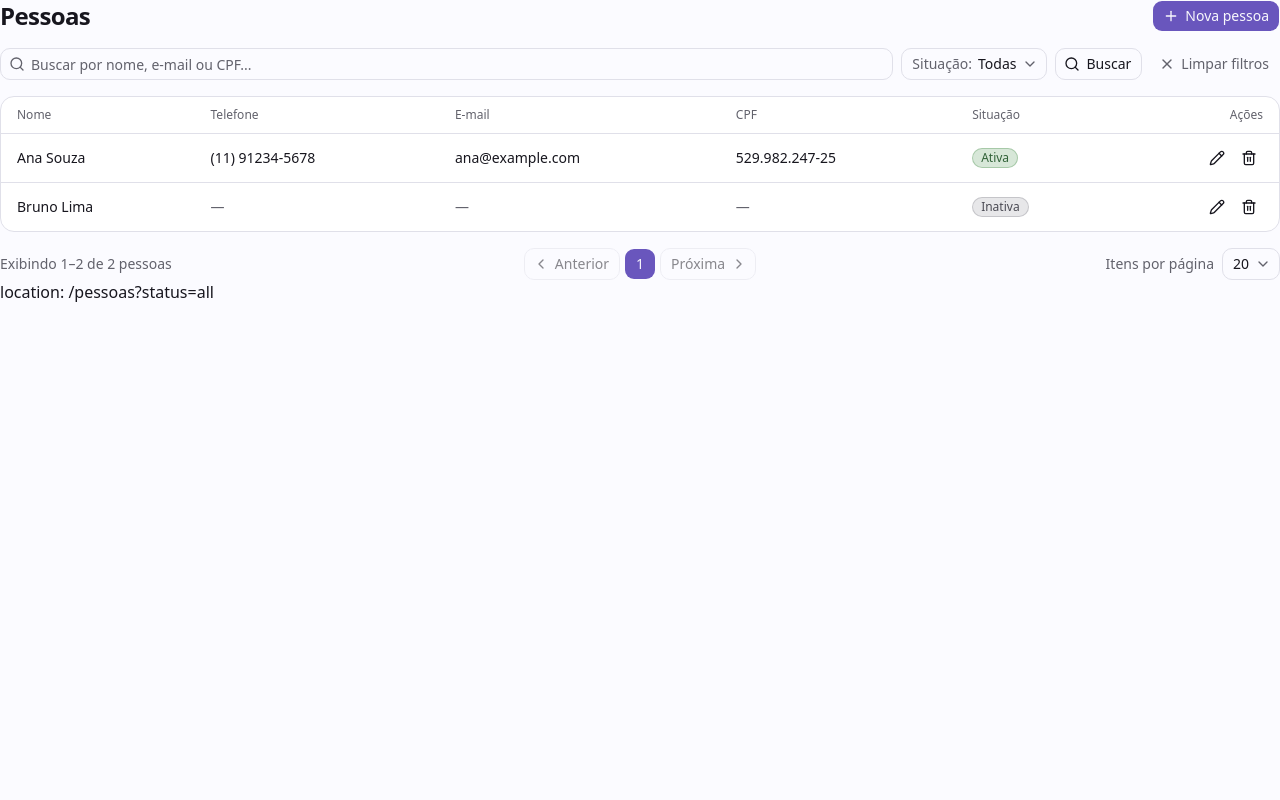
Scenario: ClientDeletePage › deletes the person, says so, reloads the list and goes back to it with its filters
The image size is (1280, 800).
expect the link "Ana Souza" is shown: met, box top-left (17, 148), bottom-right (85, 167)
Click the link named "Excluir Ana Souza": coordinates (1249, 158) top-left (1241, 150), bottom-right (1257, 166)
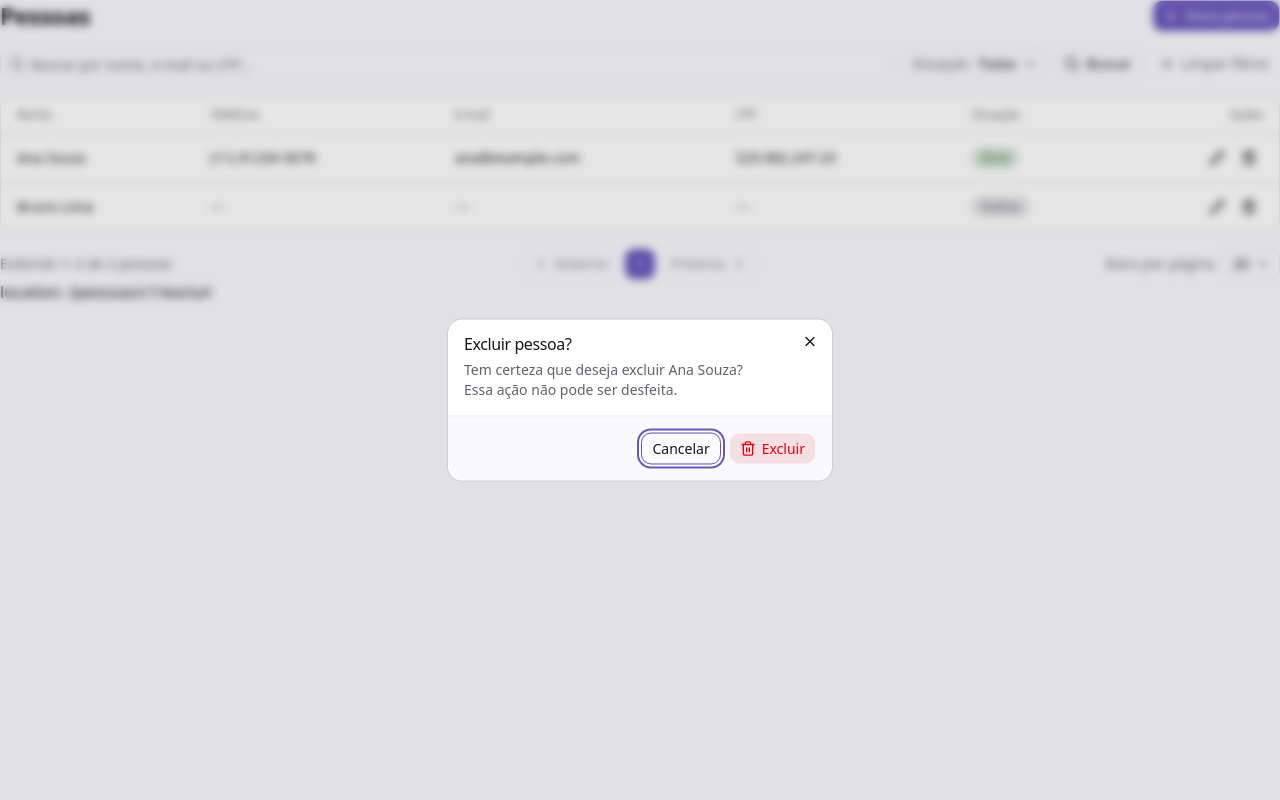
expect the text "Tem certeza que deseja excluir Ana Souza?" is shown: met, box top-left (464, 360), bottom-right (743, 378)
Click the button "Excluir": coordinates (772, 448) top-left (729, 432), bottom-right (816, 464)
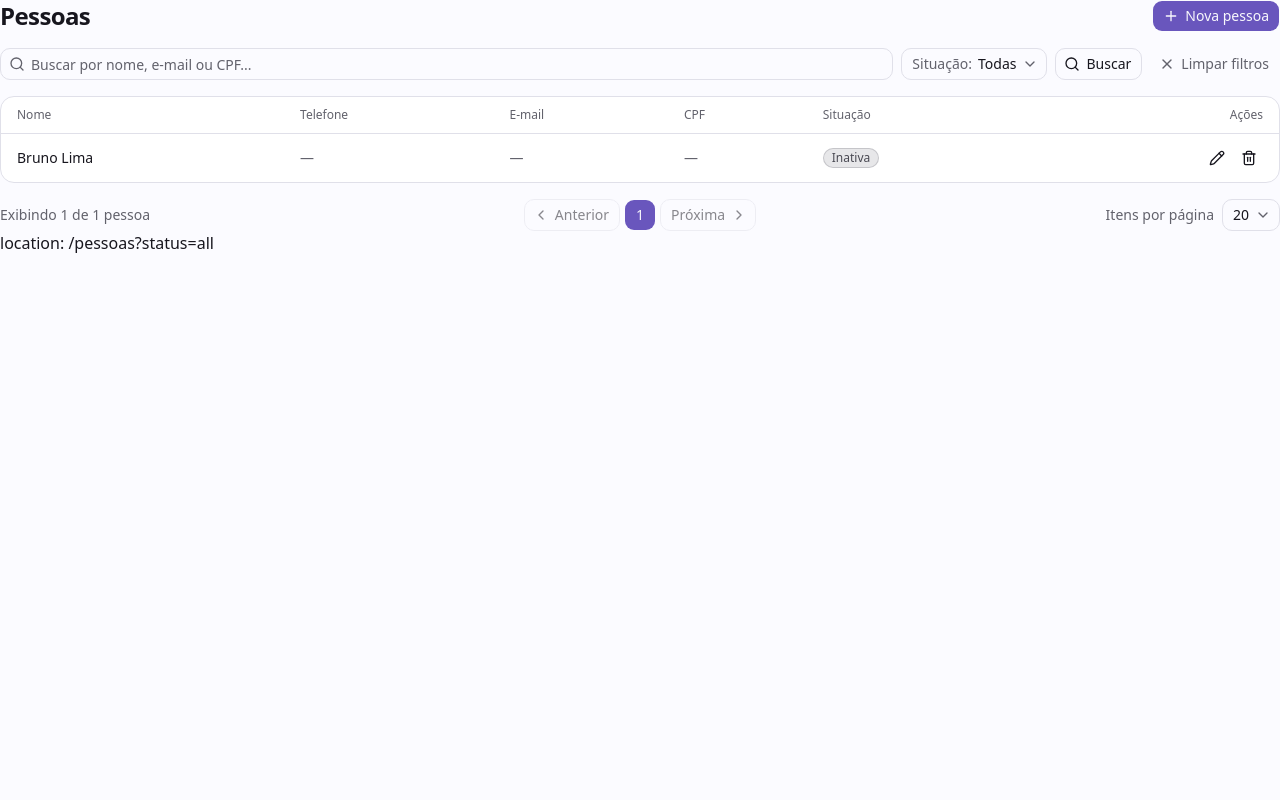
expect the link "Ana Souza" is gone: met
expect the text with test id "location" reads "location: /pessoas?status=all": met, box top-left (0, 232), bottom-right (214, 254)
expect the heading "Excluir pessoa?" is gone: met
